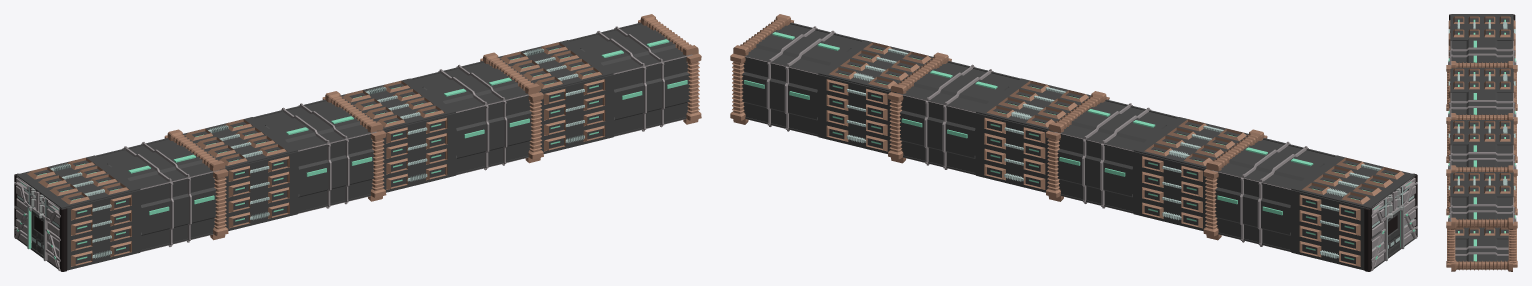
File: room7.fbx
3 views of the same model, side by side, from view 1: azimuth 30°, elevation 25°; view 2: azimuth 150°, elevation 25°; view 3: azimuth 270°, elevation 25° (orthographic). The views are drawn at different scales.
Visible parts, largest first — view 1: Pillar.072, door; view 2: Pillar.072, door; view 3: Pillar.072.
Boxes of the visible parts, left/top/right/bottom form: Pillar.072: left=16, top=14, right=701, bottom=271; door: left=14, top=173, right=67, bottom=271; Pillar.072: left=730, top=14, right=1415, bottom=270; door: left=1364, top=173, right=1417, bottom=271; Pillar.072: left=1446, top=14, right=1517, bottom=271.
Bounding box in the file's own units: 3255 × 364 × 464.
